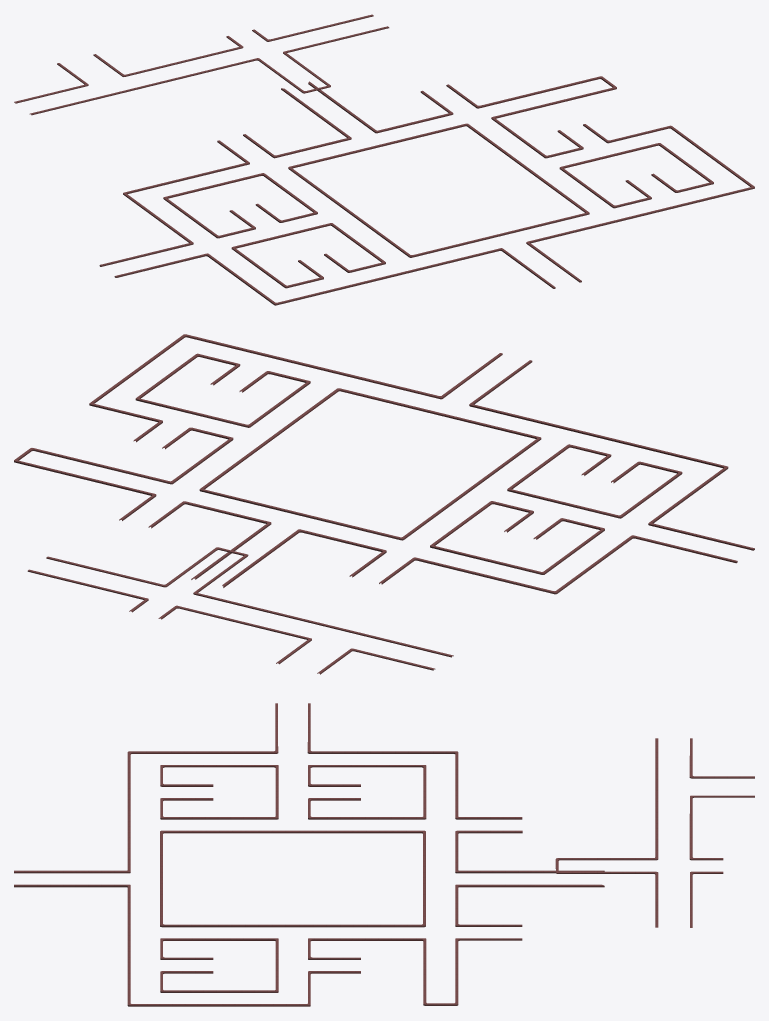
Rendered from 0152_T_ZhenYin_BiaoBian03.glb.
3 renders of one model, top to bottom at view 1: azimuth 30°, elevation 25°; view 2: azimuth 150°, elevation 25°; view 3: azimuth 270°, elevation 25°, orthographic. The views are drawn at different scales.
Bounding box in the file's own units: 2.12 × 0.0463 × 2.2.
1 material, 1 textured.
